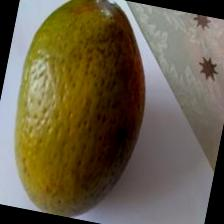Orange Rotten: (0, 0, 170, 224)
